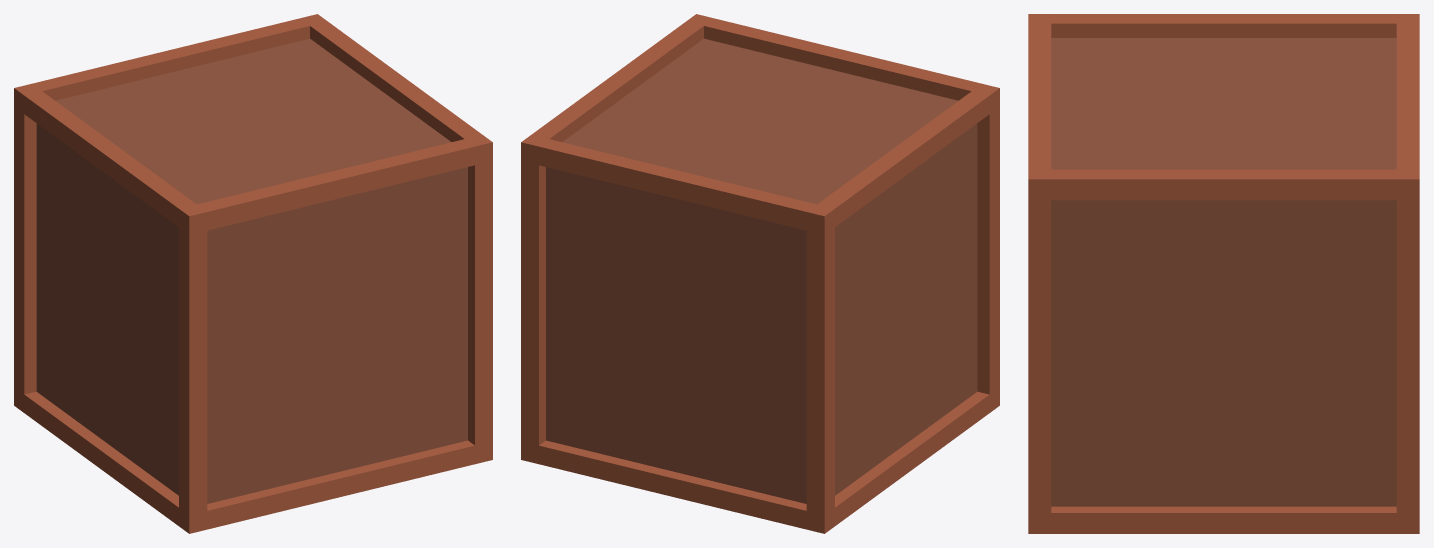
Rendered from toggleBlock.fbx.
3 views of the same model, side by side, from view 1: azimuth 30°, elevation 25°; view 2: azimuth 150°, elevation 25°; view 3: azimuth 270°, elevation 25° (orthographic). The views are drawn at different scales.
Parts seen in each view (by area): view 1: crate; view 2: crate; view 3: crate.
Part boxes in pixels (x1,y1,x2,y2): crate: (14,14,492,533); crate: (521,14,999,533); crate: (1028,14,1419,533).
Bounding box in the file's own units: 50 × 50 × 50.
